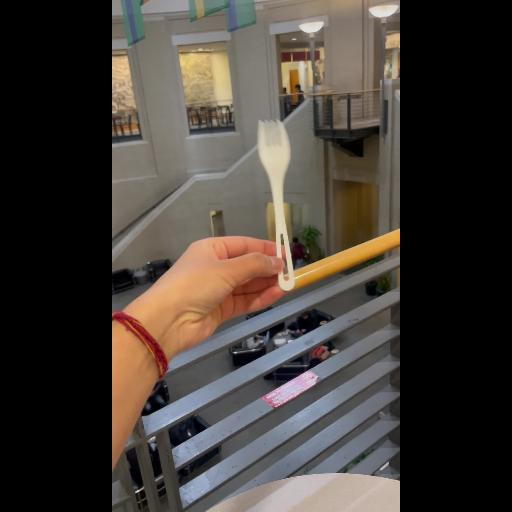utensil: (256, 118, 300, 290)
